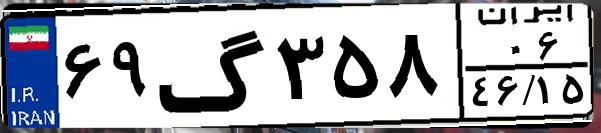0: (508, 27, 537, 80)
1: (535, 70, 560, 125)
3: (270, 28, 330, 110)
4: (470, 70, 495, 125)
5: (330, 28, 385, 110), (560, 70, 590, 125)
6: (57, 26, 110, 100), (537, 27, 568, 80), (495, 70, 520, 125)
8: (385, 28, 445, 110)
9: (110, 28, 156, 98)
گ: (156, 12, 270, 120)
